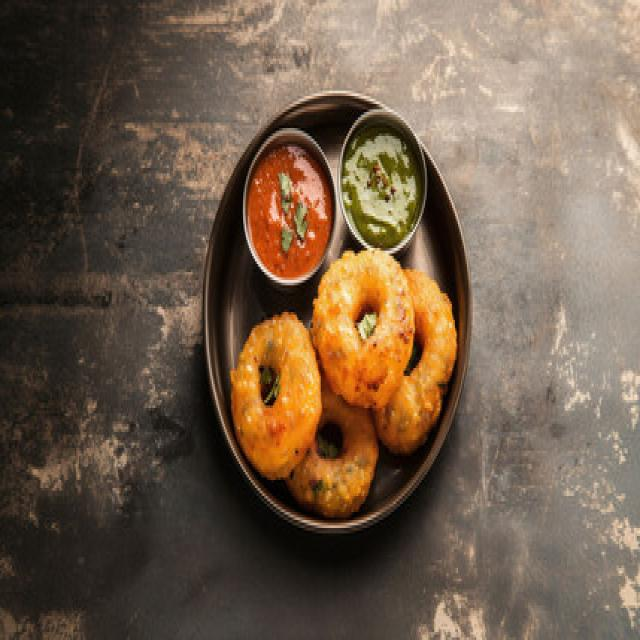GREEN CHUTNEY: (336, 104, 429, 241)
RED CHUTNEY: (239, 126, 335, 284)
VADA: (213, 243, 475, 526)
